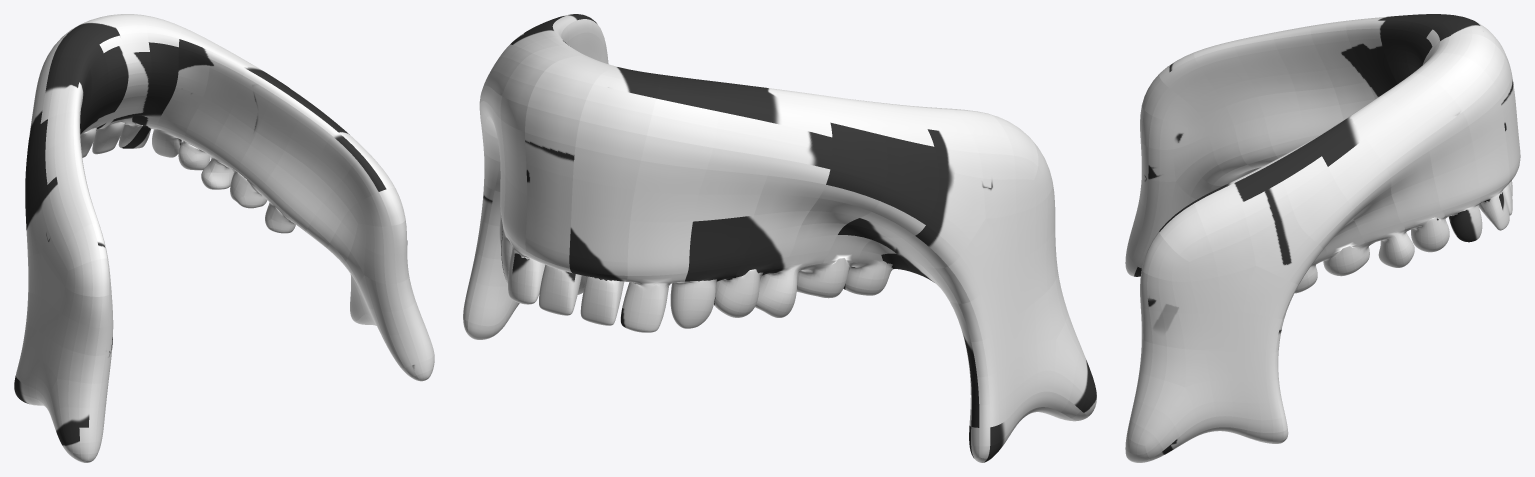
File: Skull_jaw_high.obj
3 views of the same model, side by side, from view 1: azimuth 30°, elevation 25°; view 2: azimuth 150°, elevation 25°; view 3: azimuth 270°, elevation 25° (orthographic). The views are drawn at different scales.
Parts seen in each view (by area): view 1: Human_Skull.061; view 2: Human_Skull.061; view 3: Human_Skull.061.
Boxes of the visible parts, x1=… form: Human_Skull.061: x1=14, y1=14, x2=434, y2=462; Human_Skull.061: x1=463, y1=14, x2=1096, y2=462; Human_Skull.061: x1=1125, y1=14, x2=1520, y2=462.
Bounding box in the file's own units: 4.34 × 3.31 × 3.54.
